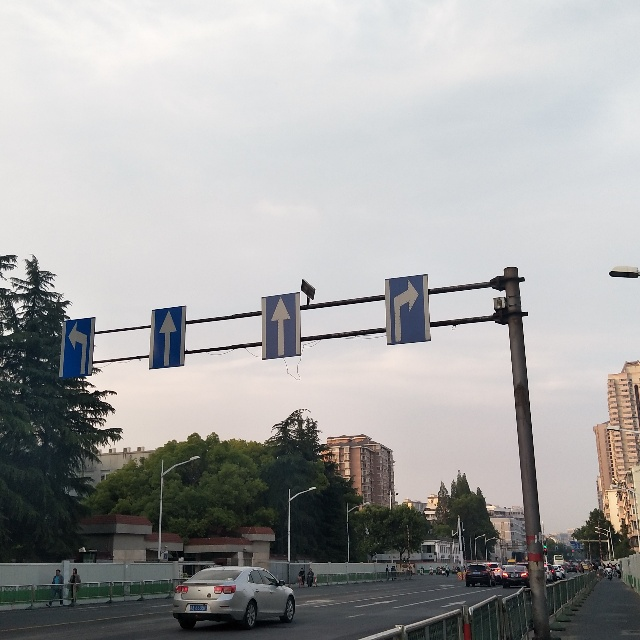left: (58, 314, 100, 379)
right: (381, 269, 435, 350)
straight: (258, 288, 307, 365), (148, 301, 193, 372)
